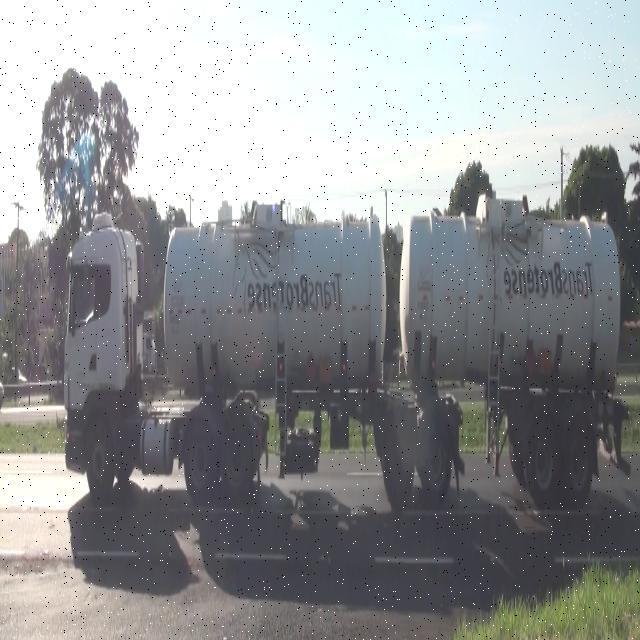-axle: (525, 419, 559, 501), (560, 416, 593, 500), (86, 416, 116, 502), (181, 412, 213, 491), (418, 416, 450, 493), (222, 412, 250, 494), (384, 427, 413, 500)
